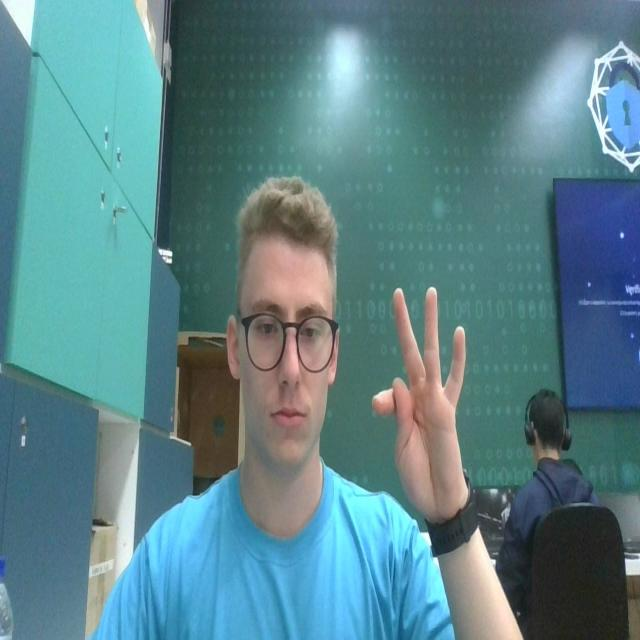T: (368, 282, 469, 509)
